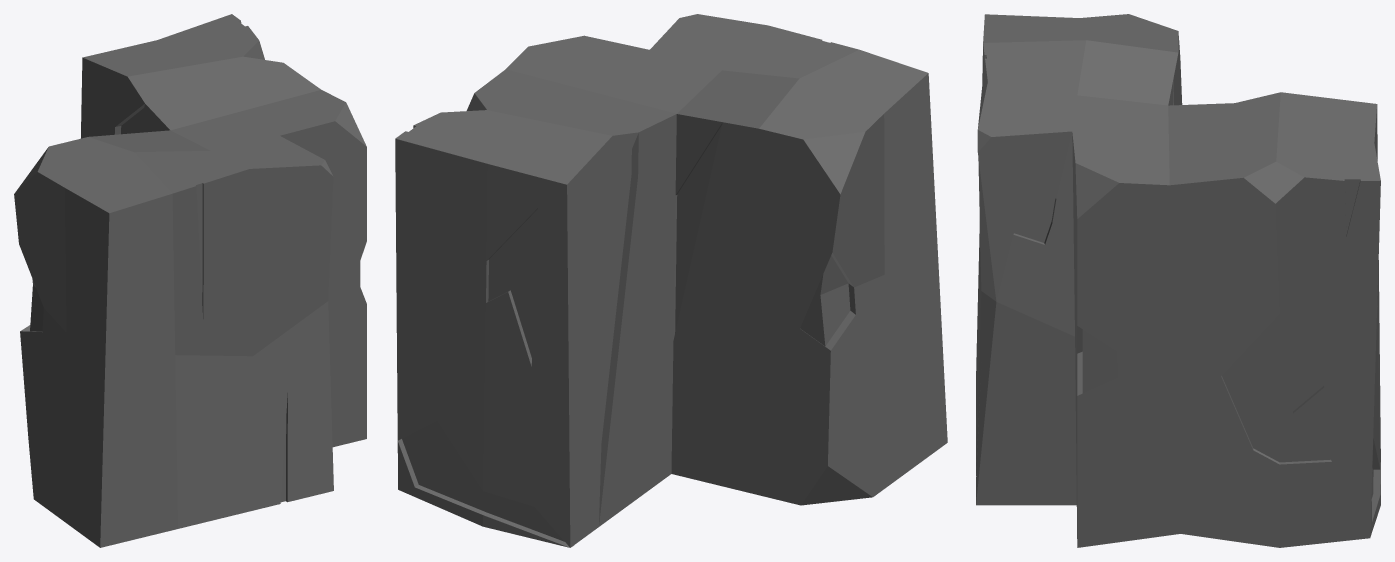
Rendered from rock_7b_001.fbx.
3 views of the same model, side by side, from view 1: azimuth 30°, elevation 25°; view 2: azimuth 150°, elevation 25°; view 3: azimuth 270°, elevation 25° (orthographic). The views are drawn at different scales.
Parts seen in each view (by area): view 1: rock_7b.001; view 2: rock_7b.001; view 3: rock_7b.001.
Boxes of the visible parts, x1,y1,x2,y2 form: rock_7b.001: (14,14,366,547); rock_7b.001: (395,14,947,547); rock_7b.001: (976,14,1380,547).
Size of the model in its own units: 927 by 958 by 920.
